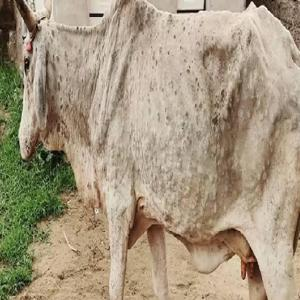lumpy skin diesease: (4, 0, 299, 299)
